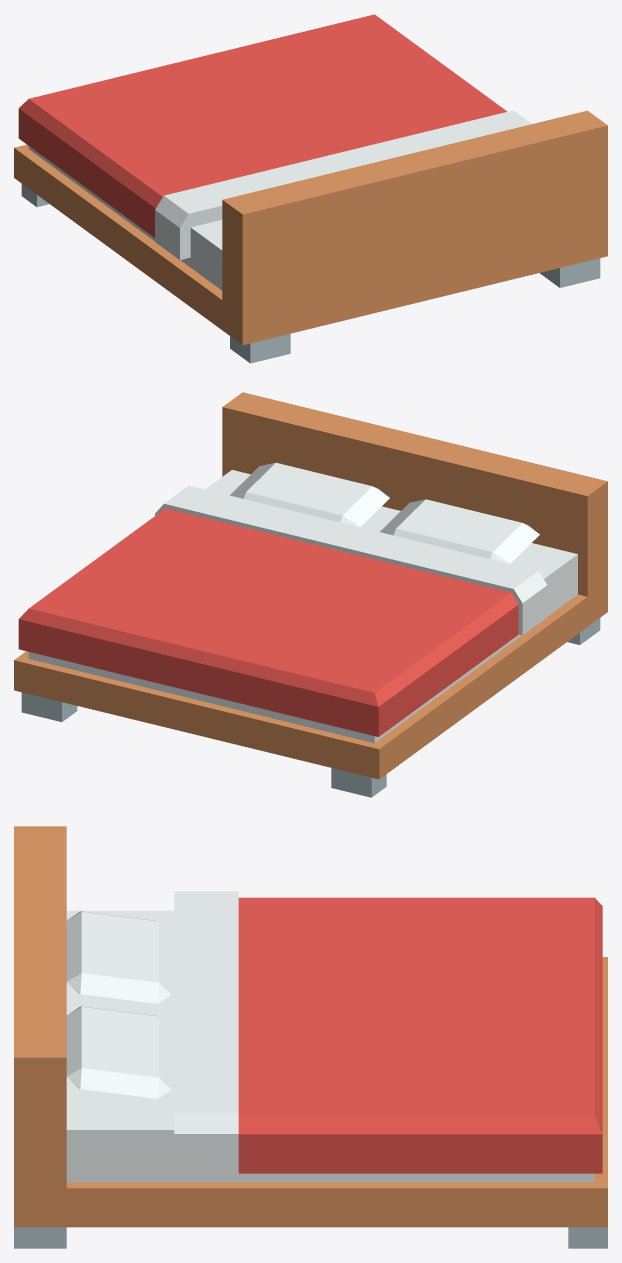
Rendered from DoubleBed.fbx.
The picture shows the model from 3 angles, top to bottom: view 1: azimuth 30°, elevation 25°; view 2: azimuth 150°, elevation 25°; view 3: azimuth 270°, elevation 25°; orthographic projection. The views are drawn at different scales.
Visible parts, largest first — view 1: bedDouble; view 2: bedDouble; view 3: bedDouble.
Boxes of the visible parts, x1=… form: bedDouble: x1=14, y1=14, x2=607, y2=363; bedDouble: x1=14, y1=392, x2=607, y2=797; bedDouble: x1=14, y1=826, x2=607, y2=1248.
Bounding box in the file's own units: 194 × 76.24 × 210.
